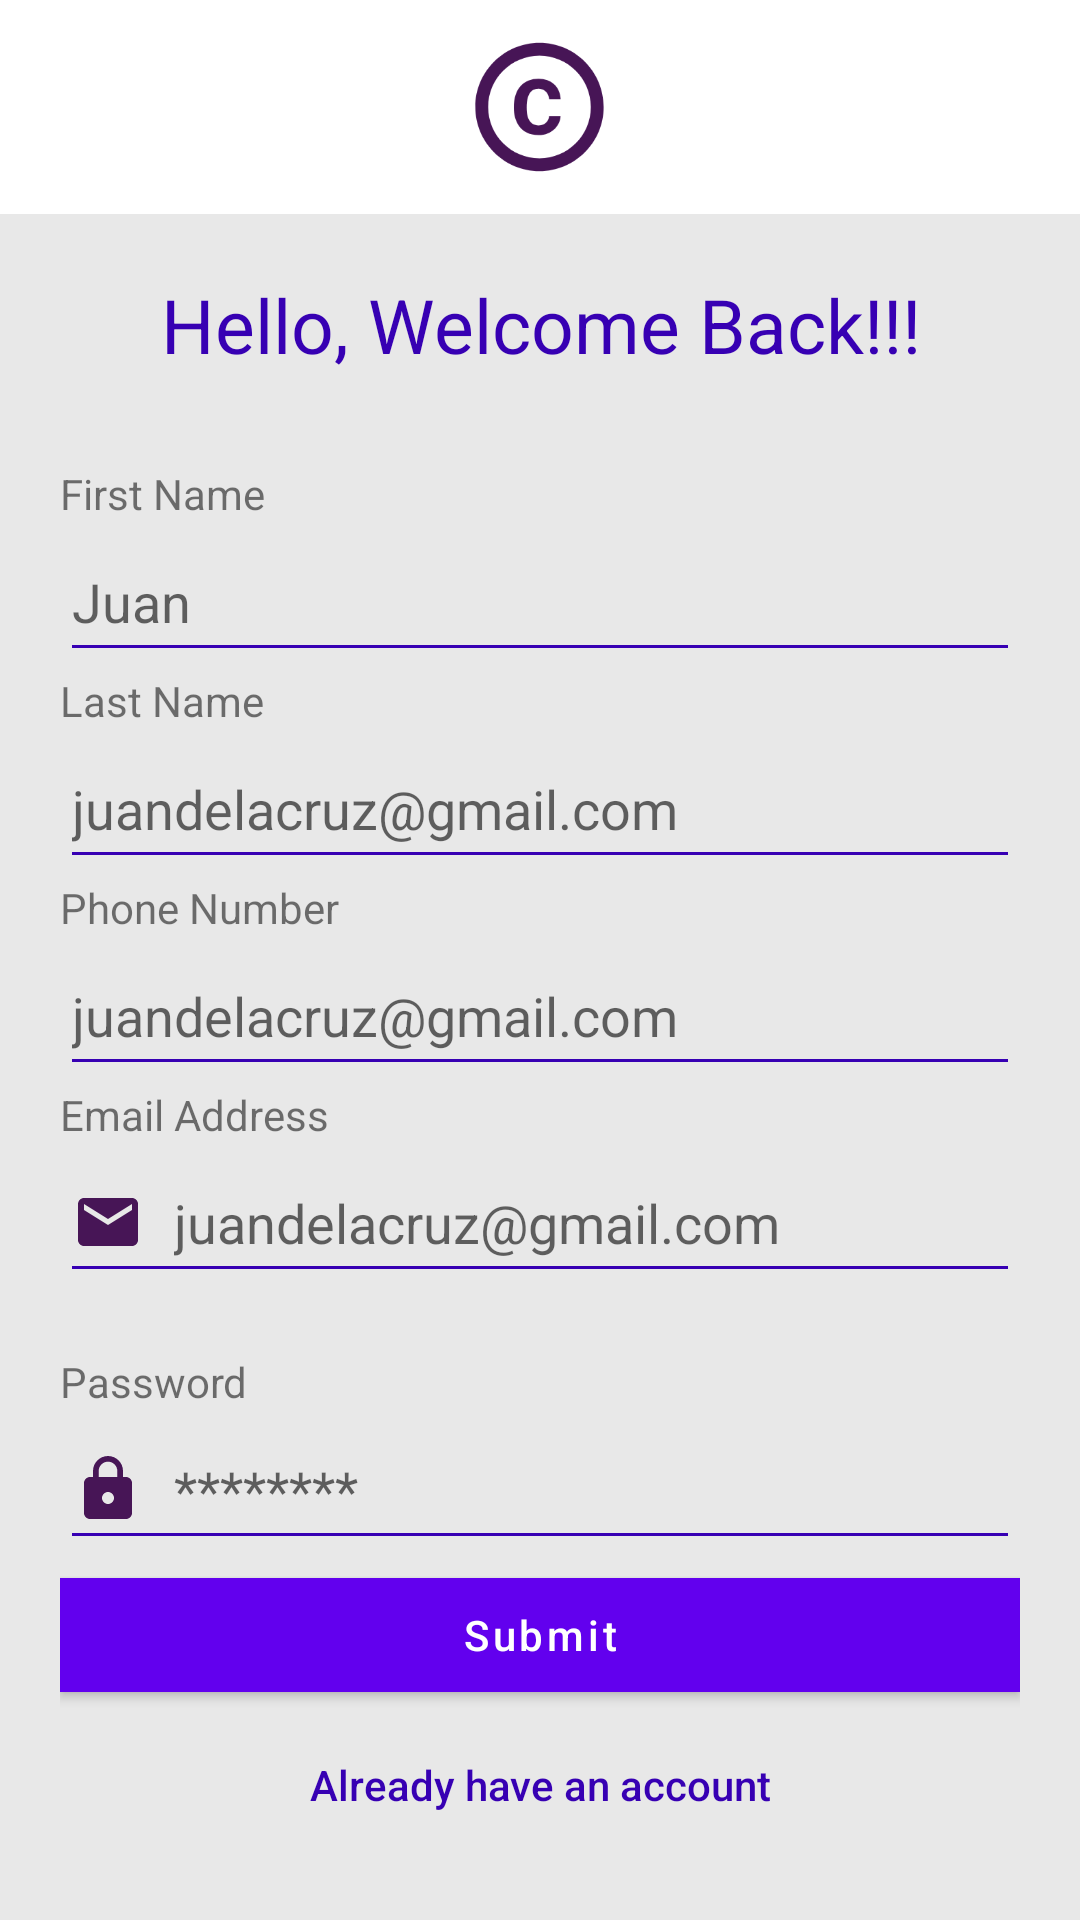

Point at icon controls on the screen. Image size 1080×1920, points as (x,y).
copyright: (539,107)
